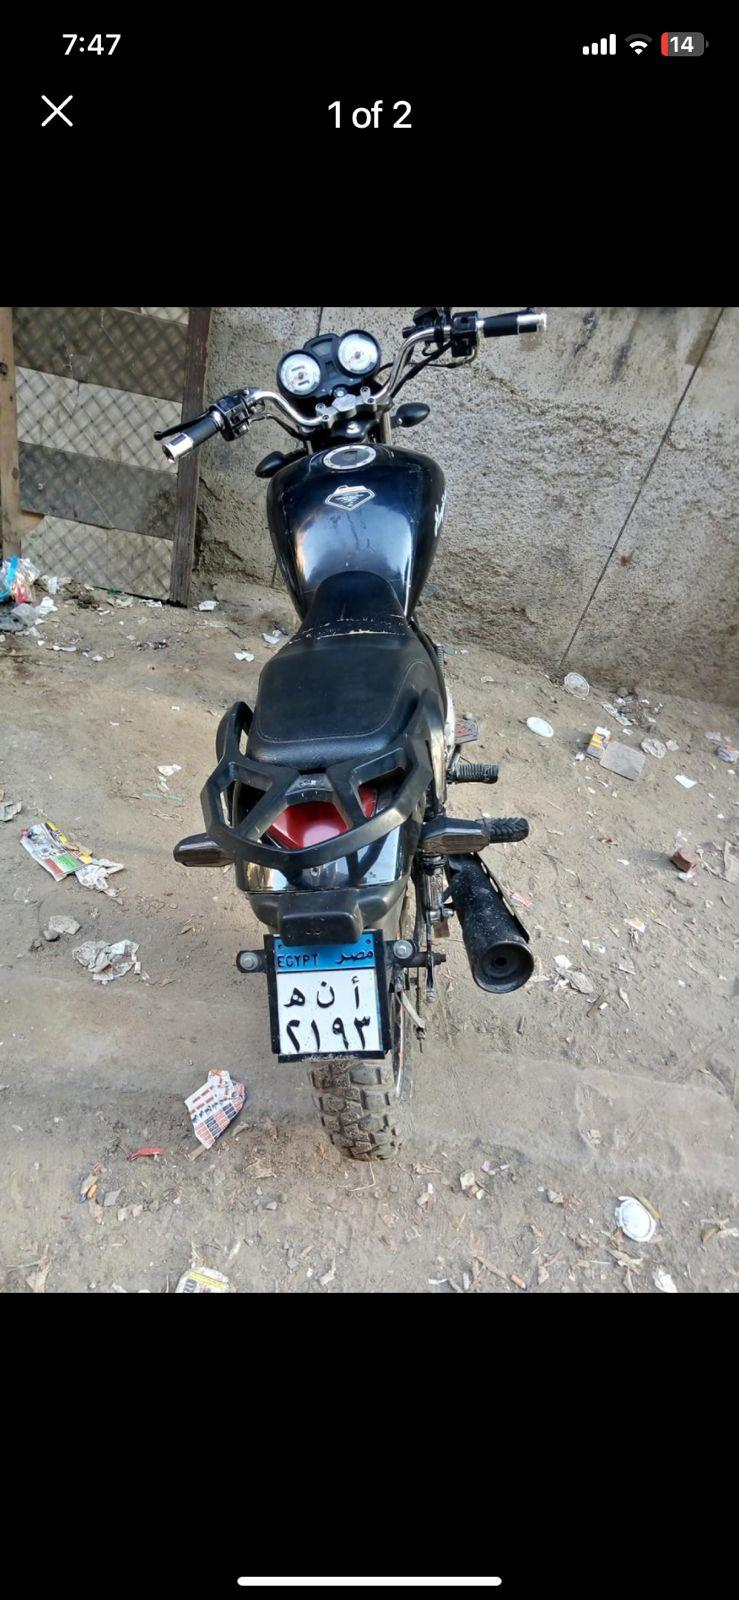License Plate: (264, 941, 388, 1064)
